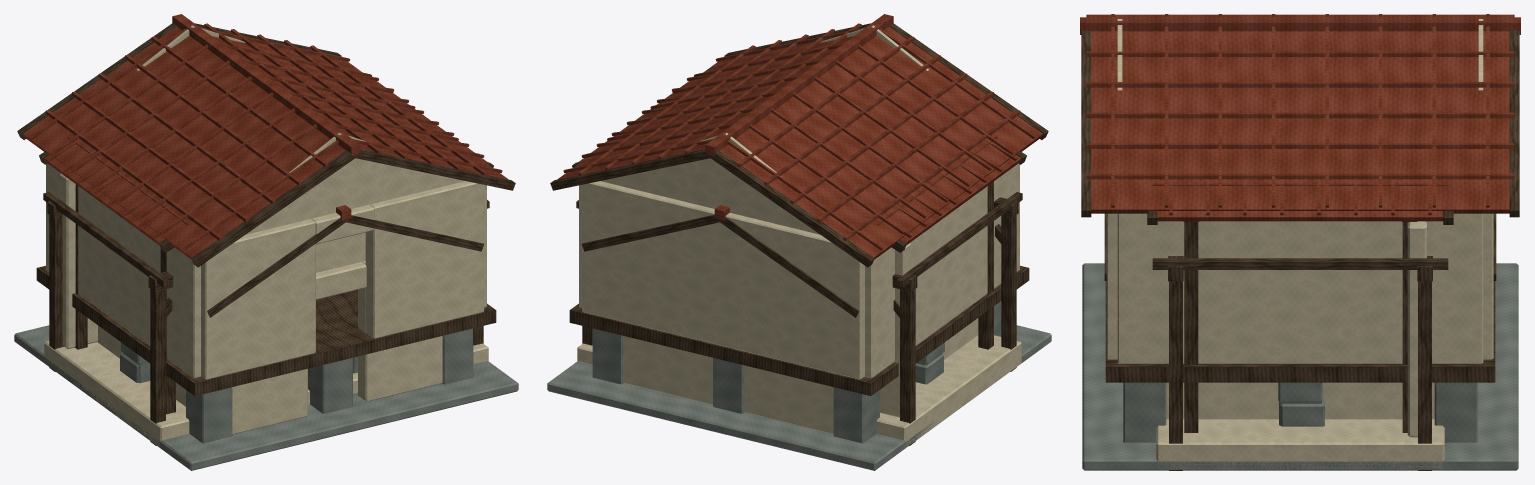
Rendered from provincial-civic-kit.glb.
3 renders of one model, left to right at view 1: azimuth 30°, elevation 25°; view 2: azimuth 150°, elevation 25°; view 3: azimuth 270°, elevation 25°, orthographic. The views are drawn at different scales.
Visible parts, largest first — view 1: raised_granary_Oxide, raised_granary_Weathered, raised_granary_River-worn, raised_granary_Weathered.001, tile_roof_store_Weathered, tribunal_portico_Weathered, pergola_arcade_Weathered, tribunal_portico_Oxide, tile_roof_store_Weathered.001, tribunal_portico_Weathered.001, farm_courtyard_wall_River-worn; view 2: raised_granary_Weathered, raised_granary_Oxide, raised_granary_River-worn, raised_granary_Weathered.001, tile_roof_store_Weathered, tribunal_portico_Weathered, pergola_arcade_Weathered, tribunal_portico_Oxide, tile_roof_store_Weathered.001, tribunal_portico_Weathered.001, tile_roof_store_River-worn, farm_courtyard_wall_River-worn; view 3: raised_granary_Oxide, raised_granary_Weathered, raised_granary_River-worn, tribunal_portico_Weathered, raised_granary_Weathered.001, pergola_arcade_Weathered, tile_roof_store_Weathered, tribunal_portico_Oxide, tribunal_portico_Weathered.001, farm_courtyard_wall_River-worn, tile_roof_store_River-worn, tile_roof_store_Weathered.001.
Part boxes in pixels (x1=…): raised_granary_Oxide: x1=23, y1=14, x2=508, y2=259; raised_granary_Weathered: x1=46, y1=25, x2=486, y2=379; raised_granary_River-worn: x1=14, y1=325, x2=518, y2=470; raised_granary_Weathered.001: x1=17, y1=23, x2=515, y2=395; tile_roof_store_Weathered: x1=97, y1=232, x2=442, y2=434; tribunal_portico_Weathered: x1=44, y1=173, x2=488, y2=447; pergola_arcade_Weathered: x1=43, y1=192, x2=489, y2=445; tribunal_portico_Oxide: x1=44, y1=73, x2=487, y2=245; tile_roof_store_Weathered.001: x1=207, y1=215, x2=484, y2=317; tribunal_portico_Weathered.001: x1=39, y1=76, x2=493, y2=414; farm_courtyard_wall_River-worn: x1=120, y1=342, x2=147, y2=382; raised_granary_Weathered: x1=579, y1=25, x2=1019, y2=379; raised_granary_Oxide: x1=557, y1=14, x2=1042, y2=259; raised_granary_River-worn: x1=547, y1=301, x2=1051, y2=470; raised_granary_Weathered.001: x1=550, y1=23, x2=1048, y2=395; tile_roof_store_Weathered: x1=623, y1=318, x2=978, y2=434; tribunal_portico_Weathered: x1=577, y1=243, x2=1021, y2=446; pergola_arcade_Weathered: x1=576, y1=192, x2=1022, y2=445; tribunal_portico_Oxide: x1=578, y1=73, x2=1021, y2=245; tile_roof_store_Weathered.001: x1=581, y1=215, x2=858, y2=317; tribunal_portico_Weathered.001: x1=572, y1=76, x2=1026, y2=349; tile_roof_store_River-worn: x1=596, y1=379, x2=857, y2=443; farm_courtyard_wall_River-worn: x1=915, y1=342, x2=944, y2=384; raised_granary_Oxide: x1=1080, y1=14, x2=1520, y2=213; raised_granary_Weathered: x1=1106, y1=19, x2=1493, y2=363; raised_granary_River-worn: x1=1082, y1=263, x2=1518, y2=470; tribunal_portico_Weathered: x1=1156, y1=221, x2=1444, y2=470; raised_granary_Weathered.001: x1=1081, y1=30, x2=1519, y2=382; pergola_arcade_Weathered: x1=1152, y1=256, x2=1448, y2=470; tile_roof_store_Weathered: x1=1166, y1=382, x2=1434, y2=419; tribunal_portico_Oxide: x1=1152, y1=179, x2=1448, y2=221; tribunal_portico_Weathered.001: x1=1147, y1=210, x2=1453, y2=432; farm_courtyard_wall_River-worn: x1=1278, y1=382, x2=1324, y2=426; tile_roof_store_River-worn: x1=1119, y1=382, x2=1481, y2=439; tile_roof_store_Weathered.001: x1=1104, y1=213, x2=1496, y2=280.
Bounding box in the file's own units: 6.04 × 5.01 × 5.66.
4 materials, 4 textured.
